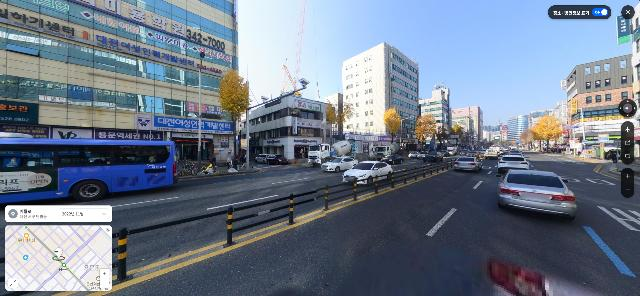ginkgo: (215, 68, 250, 171), (321, 92, 357, 140), (531, 112, 560, 154), (383, 108, 402, 142)
other: (416, 112, 436, 152), (432, 123, 451, 152), (449, 125, 464, 147), (519, 129, 533, 152), (460, 129, 472, 147)
